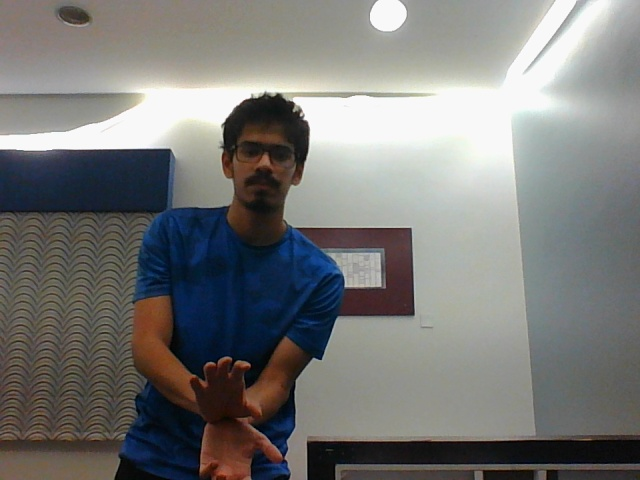blast: (177, 351, 287, 478)
